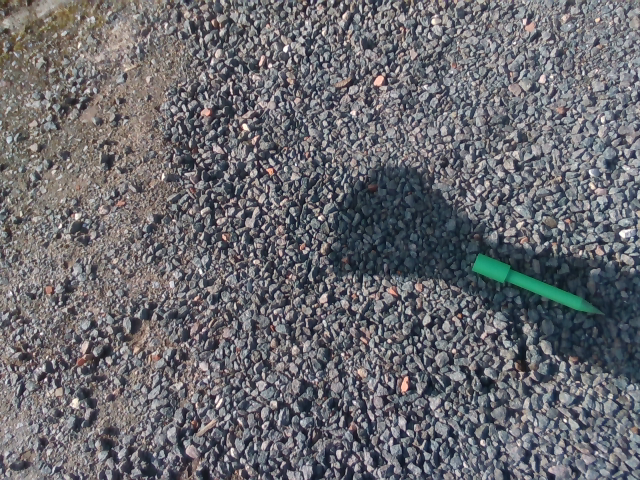Probe: (467, 248, 610, 321)
